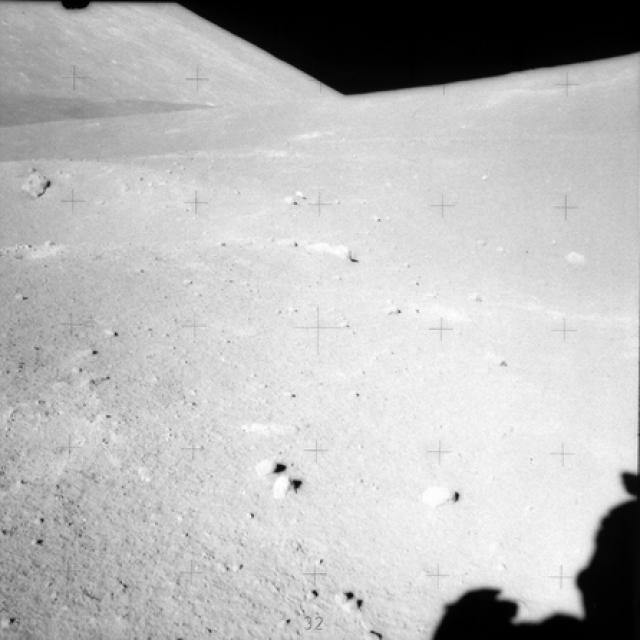rock: (274, 232, 364, 267), (18, 166, 62, 206), (419, 480, 466, 512), (268, 470, 300, 504), (255, 448, 281, 479)
